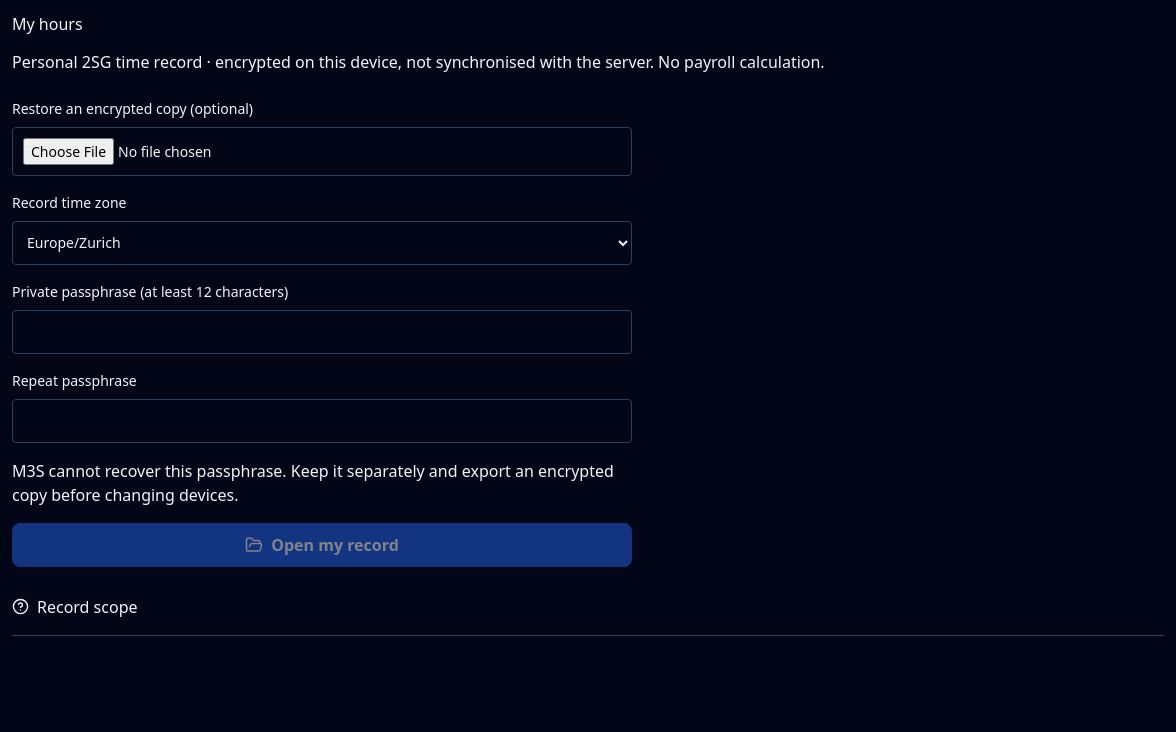
Test: locked and open EN states are translated and do not claim server sync or employee pay
This screenshot has width=1176, height=732.
Step 1. Type "synthetic private hours" into the password field labelled "Private passphrase (at least 12 characters)" → point(322, 332), box [12,310,632,354]
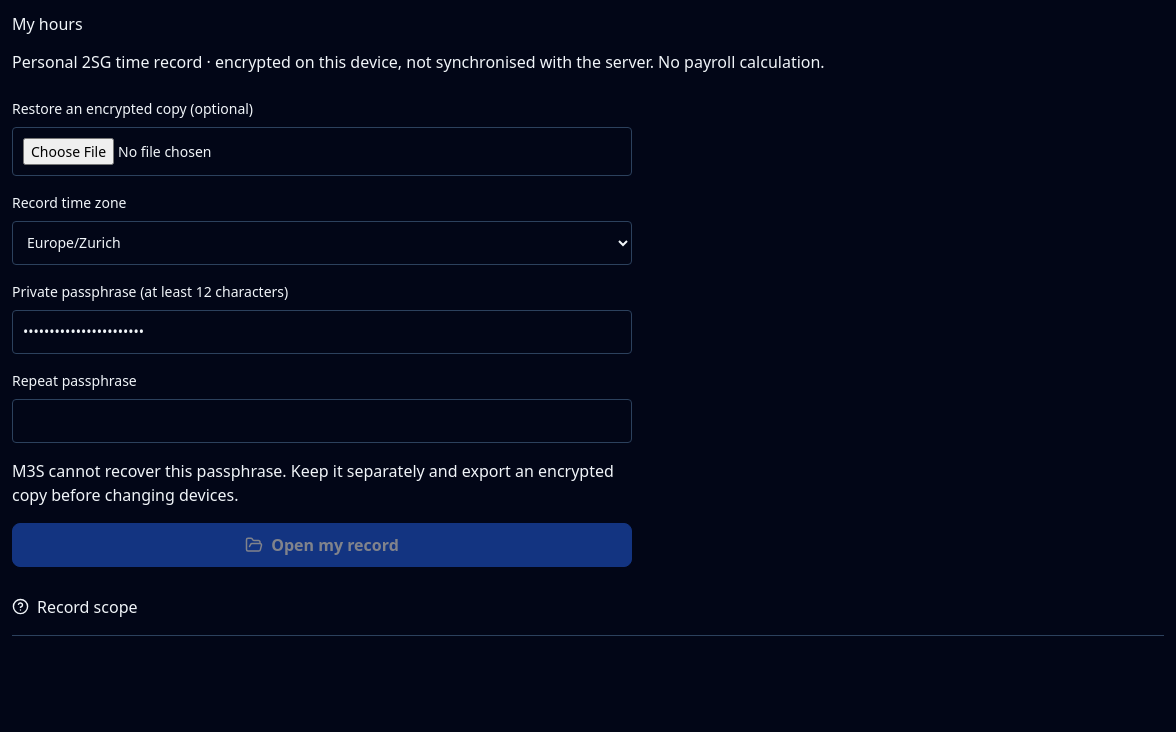
Step 2. Type "synthetic private hours" into the password field labelled "Repeat passphrase" → point(322, 421), box [12,399,632,443]
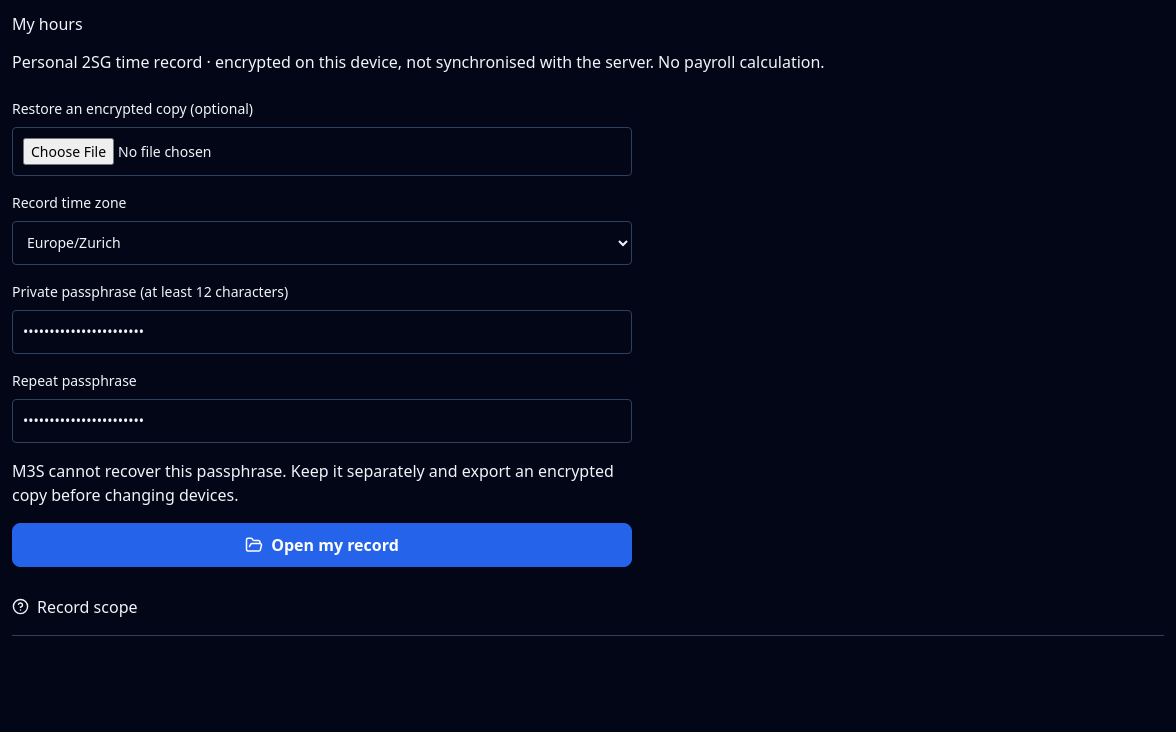
Step 3. Click the button "Open my record" → point(322, 545), box [12,523,632,567]
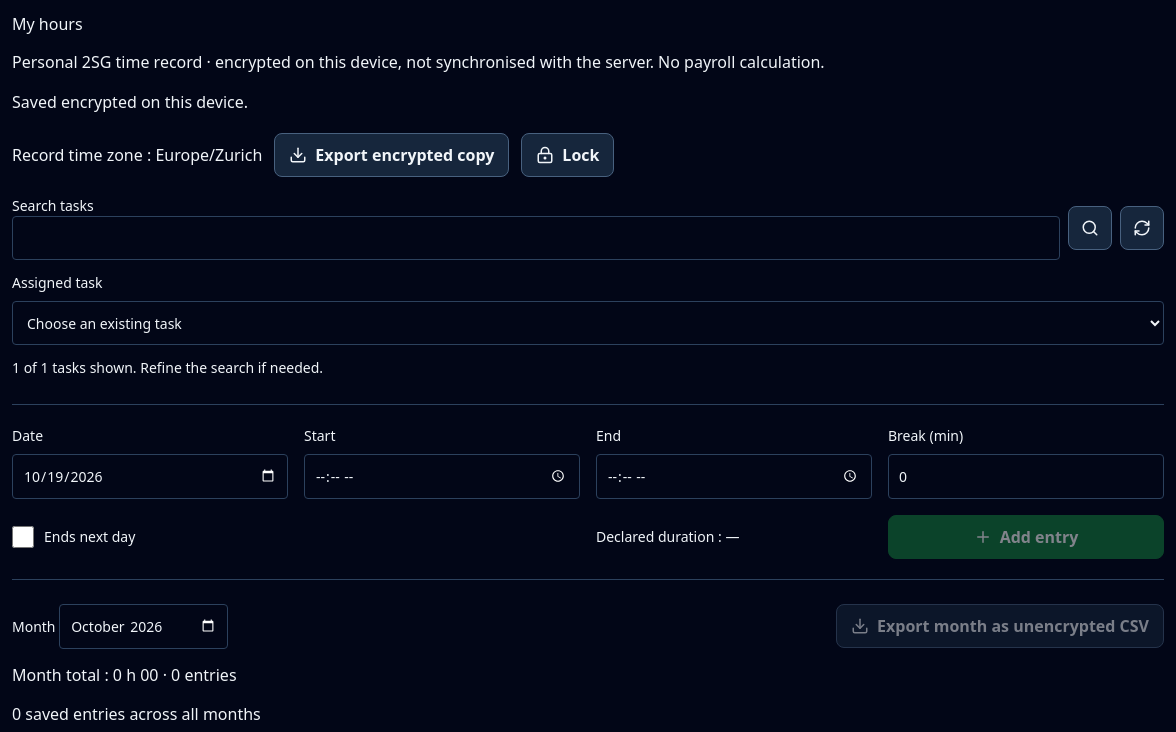
Now the button "Lock" is shown, box [521,133,614,177]
Now the dropdown labelled "Assigned task" is shown, box [12,301,1164,345]
Now the label labelled "Private passphrase (at least 12 characters)" is gone
